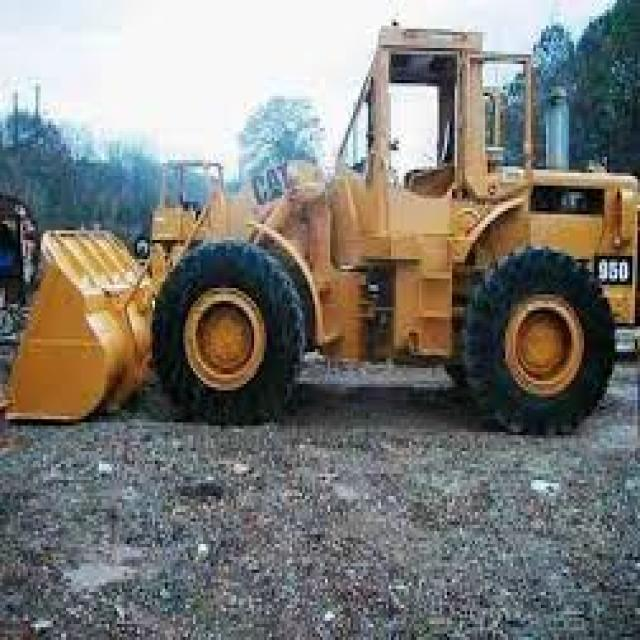buldozerpayloadergrader: (5, 12, 640, 438)
